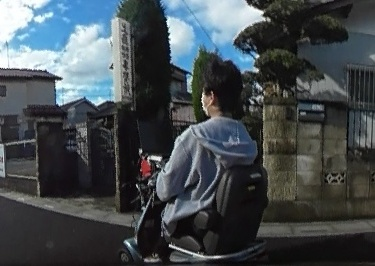person: (172, 61, 254, 229)
